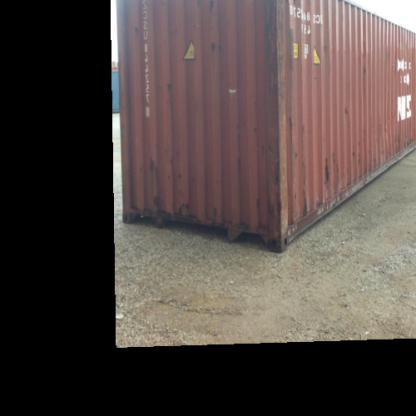Damage: (264, 2, 304, 142), (133, 146, 201, 224), (254, 142, 292, 214), (342, 141, 388, 194), (316, 151, 342, 204), (226, 214, 276, 238), (354, 34, 370, 100), (392, 125, 414, 155), (308, 34, 335, 54), (204, 34, 226, 58), (206, 198, 221, 224), (337, 100, 355, 121), (299, 190, 313, 216), (128, 22, 146, 38), (164, 76, 178, 96)
